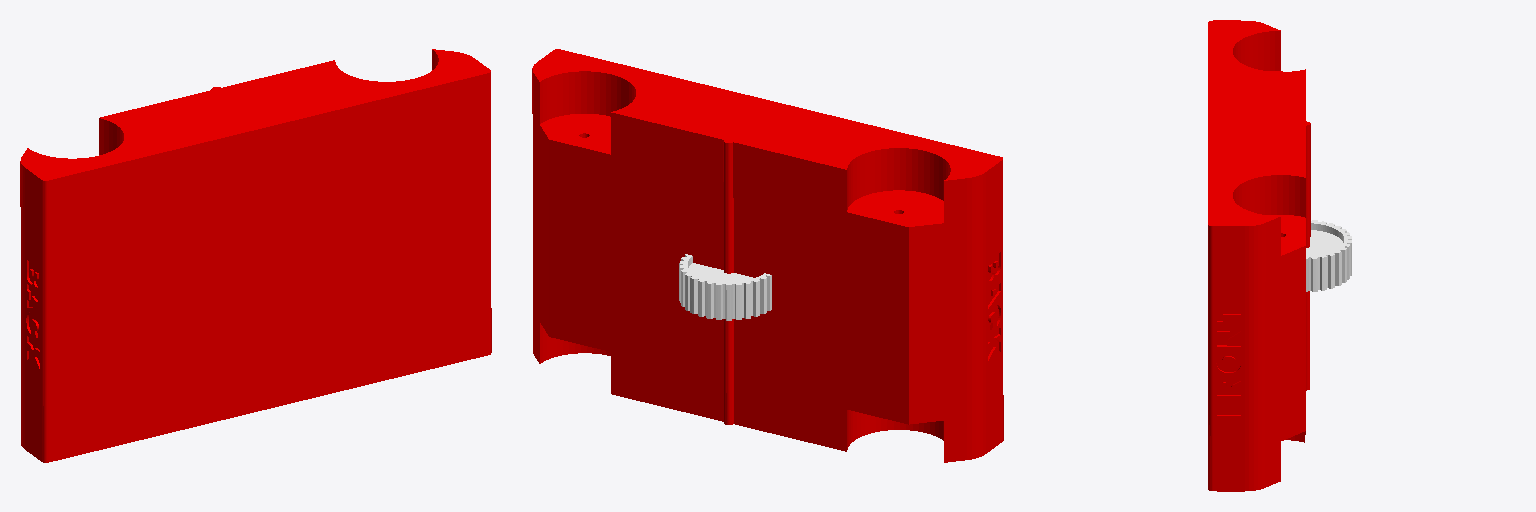
URDF robot description (ugv):
<?xml version="1.0" ?>
<!-- =================================================================================== -->
<!-- |    This document was autogenerated by xacro from [local-path]/ros2_ws/src/ugv/urdf/ugvGazebo.xacro | -->
<!-- |    EDITING THIS FILE BY HAND IS NOT RECOMMENDED                                 | -->
<!-- =================================================================================== -->
<robot name="ugv">
  <link name="wheelBL">
    <visual>
      <origin rpy="1.57 0.0 0.0" xyz="0.0 0.0 0.009"/>
      <geometry>
        <mesh filename="package://ugv/mesh/tyre.stl" scale="1 1 1"/>
      </geometry>
      <material name="black"/>
    </visual>
    <inertial>
      <mass value="0.2"/>
      <inertia ixx="0.00695" ixy="0.0" ixz="0.0" iyy="0.00695" iyz="0.0" izz="0.01203"/>
    </inertial>
    <gazebo>
      <mu>1.0</mu>
      <mu2>0.8</mu2>
      <material>Gazebo/Black</material>
    </gazebo>
  </link>
  <link name="wheelFL">
    <visual>
      <origin rpy="1.57 0.0 0.0" xyz="0.0 0.0 0.009"/>
      <geometry>
        <mesh filename="package://ugv/mesh/tyre.stl" scale="1 1 1"/>
      </geometry>
      <material name="black"/>
    </visual>
    <inertial>
      <mass value="0.2"/>
      <inertia ixx="0.00695" ixy="0.0" ixz="0.0" iyy="0.00695" iyz="0.0" izz="0.01203"/>
    </inertial>
    <gazebo>
      <mu>1.0</mu>
      <mu2>0.8</mu2>
      <material>Gazebo/Black</material>
    </gazebo>
  </link>
  <link name="wheelFR">
    <visual>
      <origin rpy="1.57 0.0 0.0" xyz="0.0 0.0 0.009"/>
      <geometry>
        <mesh filename="package://ugv/mesh/tyre.stl" scale="1 1 1"/>
      </geometry>
      <material name="black"/>
    </visual>
    <inertial>
      <mass value="0.2"/>
      <inertia ixx="0.00695" ixy="0.0" ixz="0.0" iyy="0.00695" iyz="0.0" izz="0.01203"/>
    </inertial>
    <gazebo>
      <mu>1.0</mu>
      <mu2>0.8</mu2>
      <material>Gazebo/Black</material>
    </gazebo>
  </link>
  <link name="wheelBR">
    <visual>
      <origin rpy="1.57 0.0 0.0" xyz="0.0 0.0 0.009"/>
      <geometry>
        <mesh filename="package://ugv/mesh/tyre.stl" scale="1 1 1"/>
      </geometry>
      <material name="black"/>
    </visual>
    <inertial>
      <mass value="0.2"/>
      <inertia ixx="0.00695" ixy="0.0" ixz="0.0" iyy="0.00695" iyz="0.0" izz="0.01203"/>
    </inertial>
    <gazebo>
      <mu>1.0</mu>
      <mu2>0.8</mu2>
      <material>Gazebo/Black</material>
    </gazebo>
  </link>
  <material name="black">
    <color rgba="1 1 1 1.0"/>
  </material>
  <material name="grey">
    <color rgba="1 0.0 0.0 1.0"/>
  </material>
  <link name="base_link">
    <visual>
      <origin rpy="1.57 0.0 0.0" xyz="0.0 0.0 0.009"/>
      <geometry>
        <mesh filename="package://ugv/mesh/mainBody.stl" scale="1 1 1"/>
      </geometry>
      <material name="grey"/>
    </visual>
    <inertial>
      <mass value="0.2"/>
      <inertia ixx="0.067" ixy="0.0" ixz="0.0" iyy="0.227" iyz="0.0" izz="0.173"/>
    </inertial>
    <gazebo>
      <mu>1.0</mu>
      <mu2>0.8</mu2>
      <material>Gazebo/Black</material>
    </gazebo>
  </link>
  <link name="lidar">
    <visual>
      <origin rpy="1.57 0.0 0.0" xyz="0.0 0.0 0.009"/>
      <geometry>
        <mesh filename="package://ugv/mesh/lidar.stl" scale="1 1 1"/>
      </geometry>
      <material name="grey"/>
    </visual>
  </link>
  <link name="shaftF">
    <visual>
      <origin rpy="1.57 0.0 0.0" xyz="0.0 0.0 0.009"/>
      <geometry>
        <mesh filename="package://ugv/mesh/shaft.stl" scale="1 1 1"/>
      </geometry>
      <material name="grey"/>
    </visual>
  </link>
  <link name="shaftB">
    <visual>
      <origin rpy="1.57 0.0 0.0" xyz="0.0 0.0 0.009"/>
      <geometry>
        <mesh filename="package://ugv/mesh/shaft.stl" scale="1 1 1"/>
      </geometry>
      <material name="grey"/>
    </visual>
  </link>
  <joint name="mainBody_shaftF" type="fixed">
    <parent link="base_link"/>
    <child link="shaftF"/>
    <origin rpy="0.0 0.0 0.0" xyz="0.07 0 0.0105"/>
  </joint>
  <joint name="mainBody_shaftB" type="fixed">
    <parent link="base_link"/>
    <child link="shaftB"/>
    <origin rpy="0.0 0.0 0.0" xyz="-0.07 0 0.0105"/>
  </joint>
  <joint name="mainBody_WheelBL" type="continuous">
    <parent link="base_link"/>
    <child link="wheelBL"/>
    <origin rpy="0.0 0.0 0.0" xyz="-0.07 0.0525 0.01"/>
    <axis xyz="0 1 0"/>
    <limit effort="0" lower="0" upper="0" velocity="0"/>
  </joint>
  <joint name="mainBody_WheelFL" type="continuous">
    <parent link="base_link"/>
    <child link="wheelFL"/>
    <origin rpy="0.0 0.0 0.0" xyz="0.07 0.0525 0.010"/>
    <axis xyz="0 1 0"/>
    <limit effort="0" lower="0" upper="0" velocity="0"/>
  </joint>
  <joint name="mainBody_WheelFR" type="continuous">
    <parent link="base_link"/>
    <child link="wheelFR"/>
    <origin rpy="0.0 0.0 0.0" xyz="0.07 -0.0525 0.010"/>
    <axis xyz="0 1 0"/>
    <limit effort="0" lower="0" upper="0" velocity="0"/>
  </joint>
  <joint name="mainBody_WheelBR" type="continuous">
    <parent link="base_link"/>
    <child link="wheelBR"/>
    <origin rpy="0.0 0.0 0.0" xyz="-0.07 -0.0525 0.010"/>
    <axis xyz="0 1 0"/>
    <limit effort="0" lower="0" upper="0" velocity="0"/>
  </joint>
  <joint name="mainBody_Lidar" type="fixed">
    <parent link="base_link"/>
    <child link="lidar"/>
    <origin rpy="0.0 0.0 0.0" xyz="0.075 0 0.04"/>
  </joint>
</robot>

--- What the picture shows (computed from the rendered views, not written in the file) ---
Views: 3 orthographic renders of the robot side by side, from view 1: azimuth 30°, elevation 25°; view 2: azimuth 150°, elevation 25°; view 3: azimuth 270°, elevation 25°.
Model ugv with 8 links and 7 joints (4 continuous, 3 fixed), rooted at base_link, posed all joints at 0.
Visible links, largest first — view 1: base_link; view 2: base_link, wheelBL, shaftB, wheelFL, shaftF; view 3: base_link, wheelFL, shaftF, wheelFR.
Link boxes in pixels (x1,y1,x2,y2): base_link: (20,49,491,462); base_link: (532,49,1003,462); wheelBL: (680,254,771,320); shaftB: (725,140,733,424); wheelFL: (679,254,764,319); shaftF: (723,139,733,424); base_link: (1208,20,1305,491); wheelFL: (1306,220,1351,291); shaftF: (1301,122,1310,390); wheelFR: (1311,223,1348,291).
Size in the robot's own frame: 200 by 59.08 by 120 metres.
Meshes: 4 distinct files referenced, 8 mesh visuals loaded (4 binary STL).